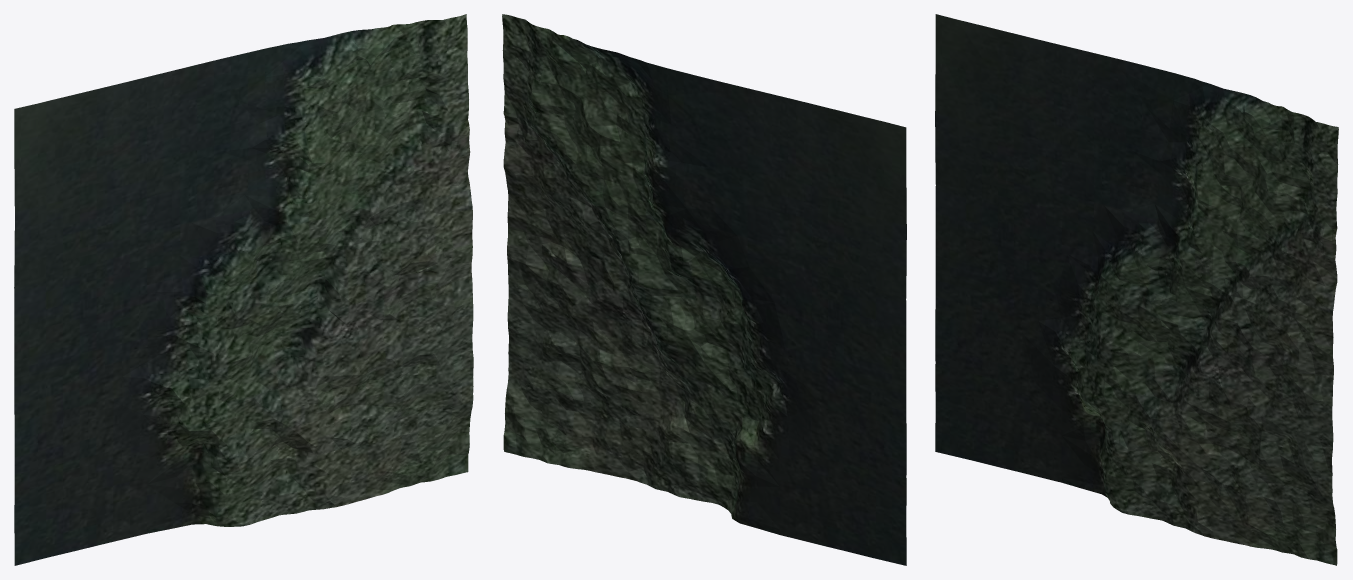
File: Tile_+032_+024_L21_00030000.obj
3 views of the same model, side by side, from view 1: azimuth 30°, elevation 25°; view 2: azimuth 150°, elevation 25°; view 3: azimuth 330°, elevation 25° (orthographic). The views are drawn at different scales.
Size of the model in its own units: 31.38 by 31.38 by 2.94.
1 material, 1 textured.
